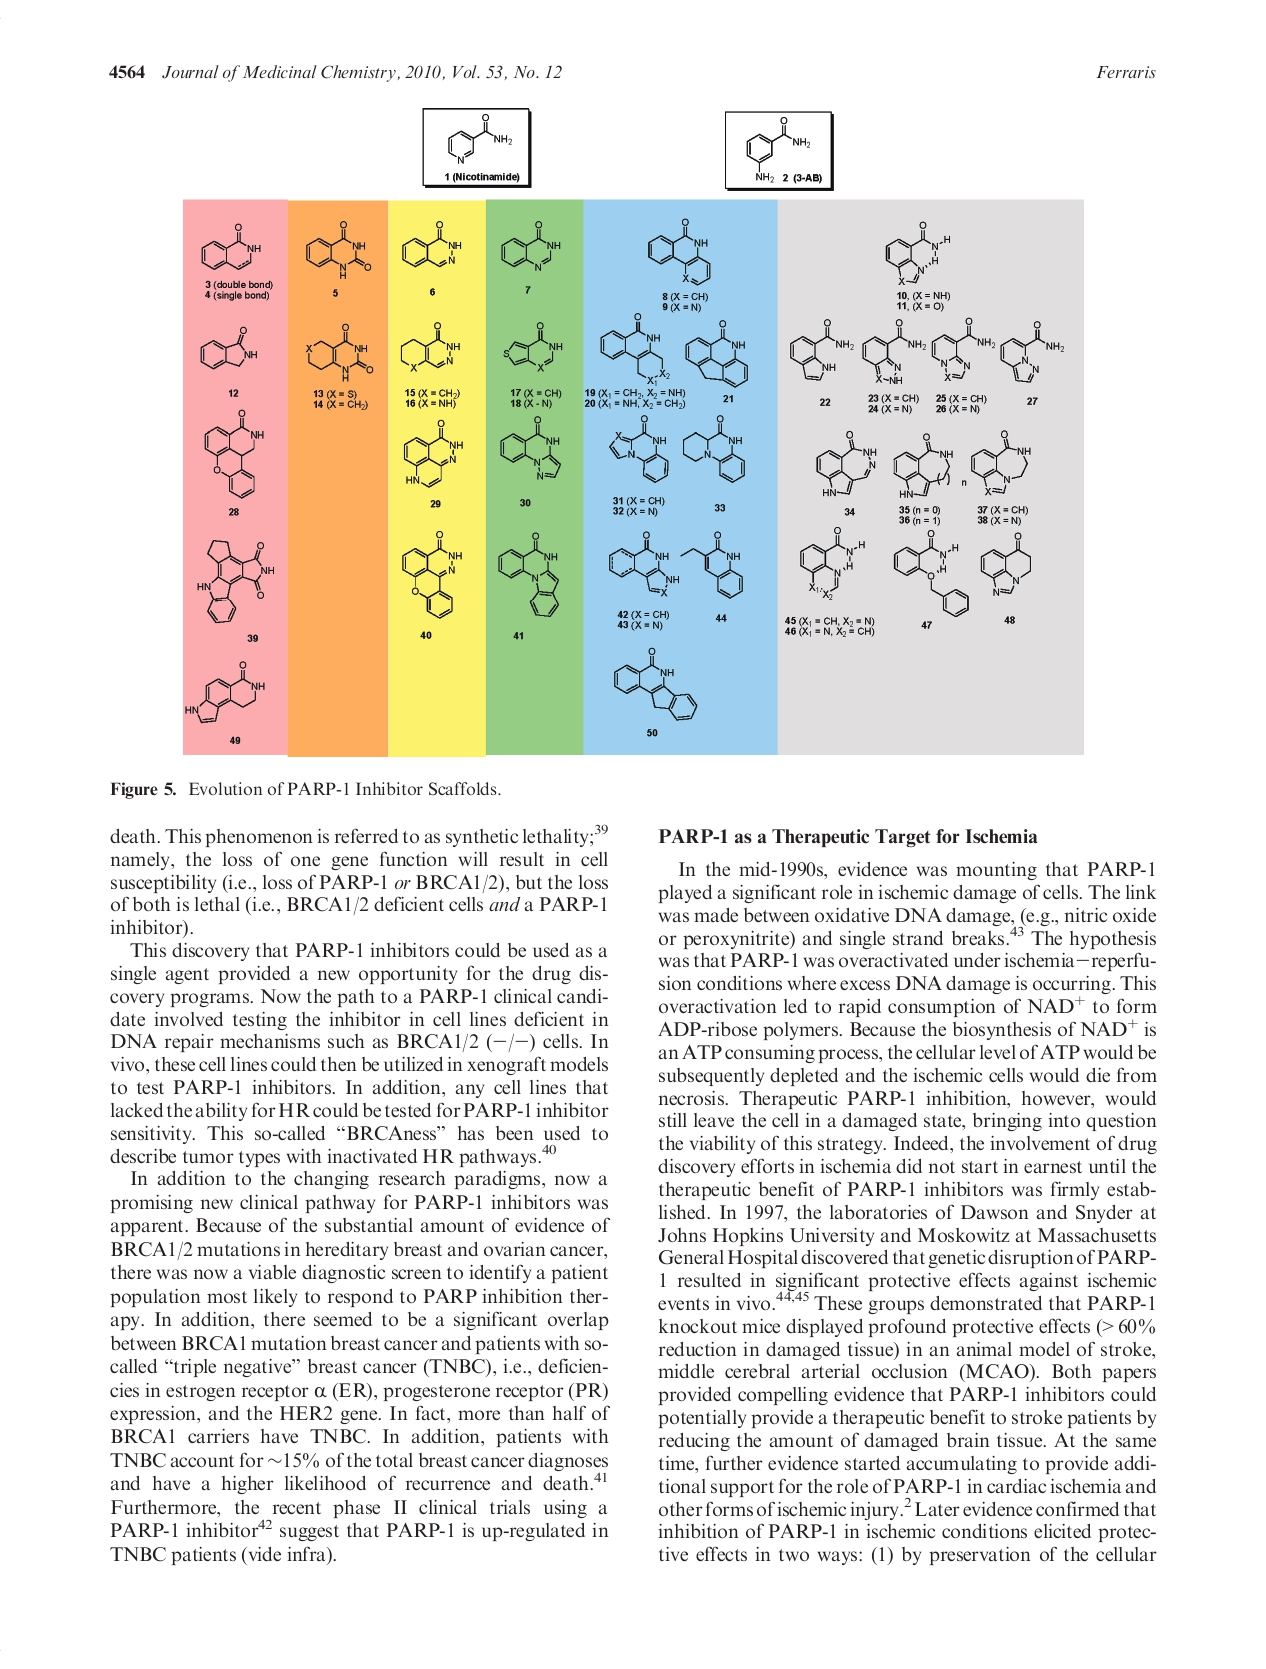exist_molecular: (193, 536, 277, 625), (610, 641, 699, 723), (894, 529, 972, 618), (399, 531, 465, 621), (496, 529, 564, 617), (205, 410, 271, 499), (184, 660, 269, 725), (598, 311, 672, 387), (797, 525, 870, 601), (646, 214, 715, 289), (682, 319, 754, 390), (606, 529, 681, 597), (741, 113, 811, 184), (883, 218, 953, 289), (301, 214, 374, 282), (967, 426, 1035, 499), (680, 529, 747, 602), (402, 415, 467, 491), (681, 410, 746, 485), (814, 427, 880, 500), (930, 310, 996, 380), (999, 317, 1063, 388), (859, 317, 926, 384), (608, 414, 672, 484), (438, 113, 520, 168), (499, 415, 565, 481), (894, 431, 956, 501), (789, 317, 854, 383), (305, 322, 375, 383), (976, 529, 1035, 597), (199, 217, 262, 274), (497, 221, 563, 273), (504, 322, 567, 375), (399, 219, 463, 270), (402, 321, 461, 372), (199, 324, 261, 371)
